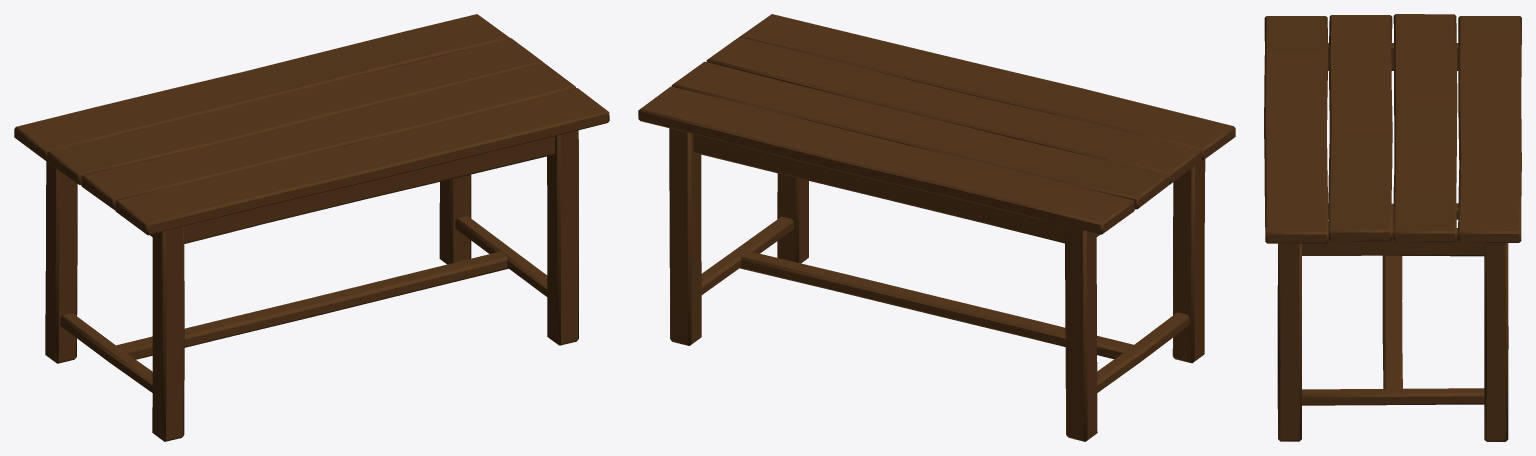
File: tisch.glb
3 views of the same model, side by side, from view 1: azimuth 30°, elevation 25°; view 2: azimuth 150°, elevation 25°; view 3: azimuth 270°, elevation 25° (orthographic). The views are drawn at different scales.
Parts seen in each view (by area): view 1: tisch; view 2: tisch; view 3: tisch.
Boxes of the visible parts, x1,y1,x2,y2 form: tisch: (14, 14, 609, 441); tisch: (638, 14, 1235, 441); tisch: (1264, 14, 1521, 441).
Size of the model in its own units: 1.6 by 0.7649 by 0.8.
